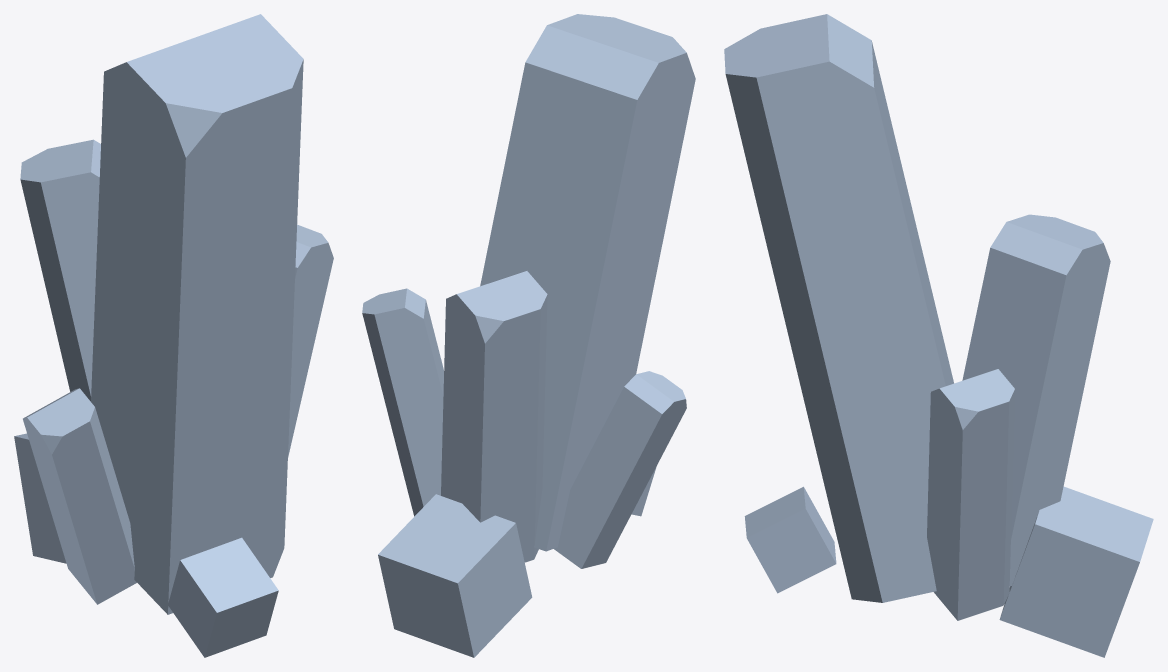
The model's file is crystal4.glb.
The picture shows the model from 3 angles, left to right: view 1: azimuth 30°, elevation 25°; view 2: azimuth 150°, elevation 25°; view 3: azimuth 270°, elevation 25°; orthographic projection. The views are drawn at different scales.
Parts seen in each view (by area): view 1: crystal4; view 2: crystal4; view 3: crystal4.
Boxes of the visible parts, x1=… form: crystal4: x1=14, y1=14, x2=333, y2=657; crystal4: x1=362, y1=14, x2=695, y2=657; crystal4: x1=724, y1=14, x2=1153, y2=657.
Size of the model in its own units: 1.26 by 2.25 by 1.5.
